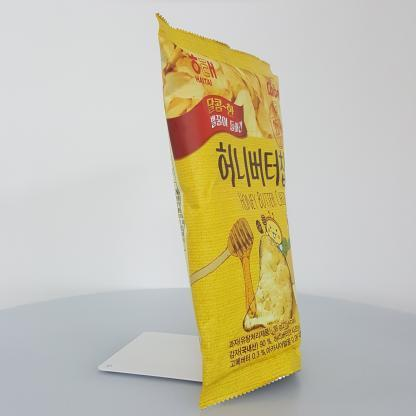Plastic Packaging: (146, 7, 326, 413)
